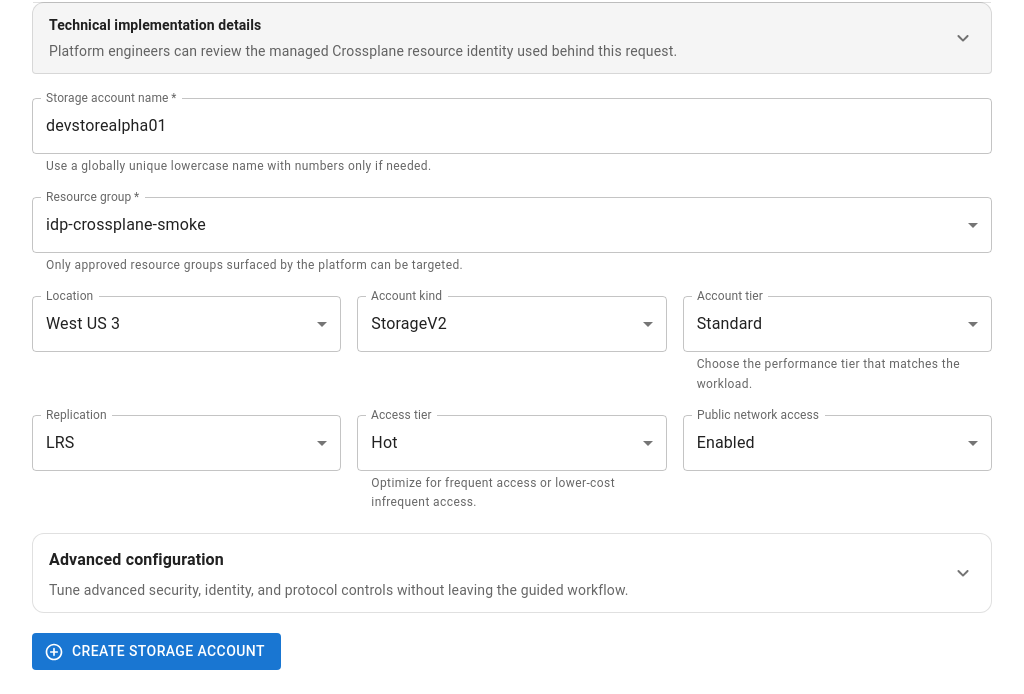
it: AzureStorageAccountWorkflow › surfaces an API error when the storage request fails
(page scrolled)
Expected: the text "Only approved resource groups surfaced by the platform can be targeted" is shown, [46, 258, 463, 272]
Click the button "Create Storage Account" at (156,652), box [32, 633, 281, 670]
(page scrolled)
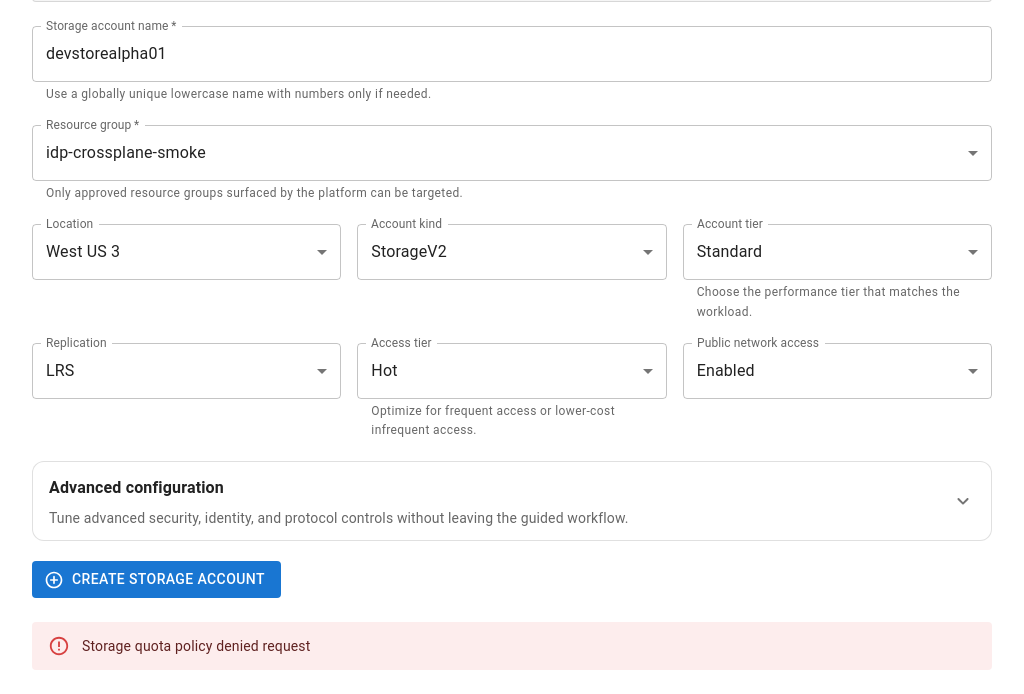
Expected: the text "Storage quota policy denied request" is shown, [82, 638, 310, 654]
